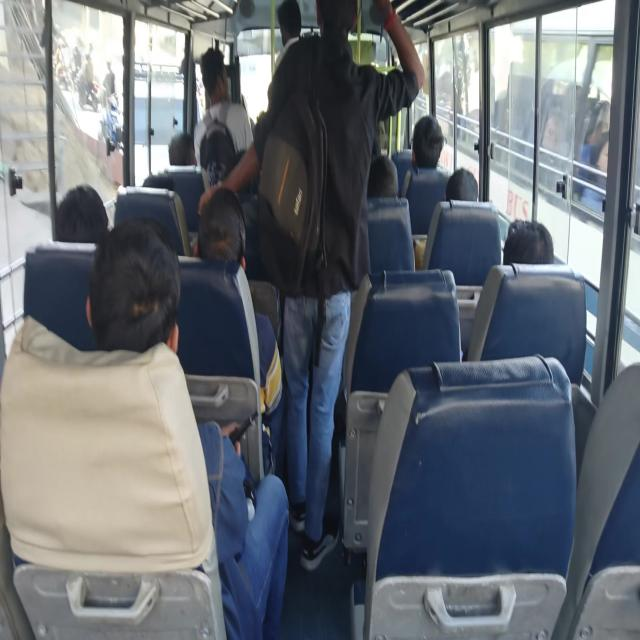person: (197, 0, 425, 571), (86, 216, 290, 638), (196, 186, 284, 476), (192, 46, 255, 178), (55, 183, 109, 244), (502, 218, 554, 264), (273, 0, 302, 74), (411, 114, 444, 170), (367, 154, 399, 198), (444, 167, 478, 201), (168, 131, 196, 165)
